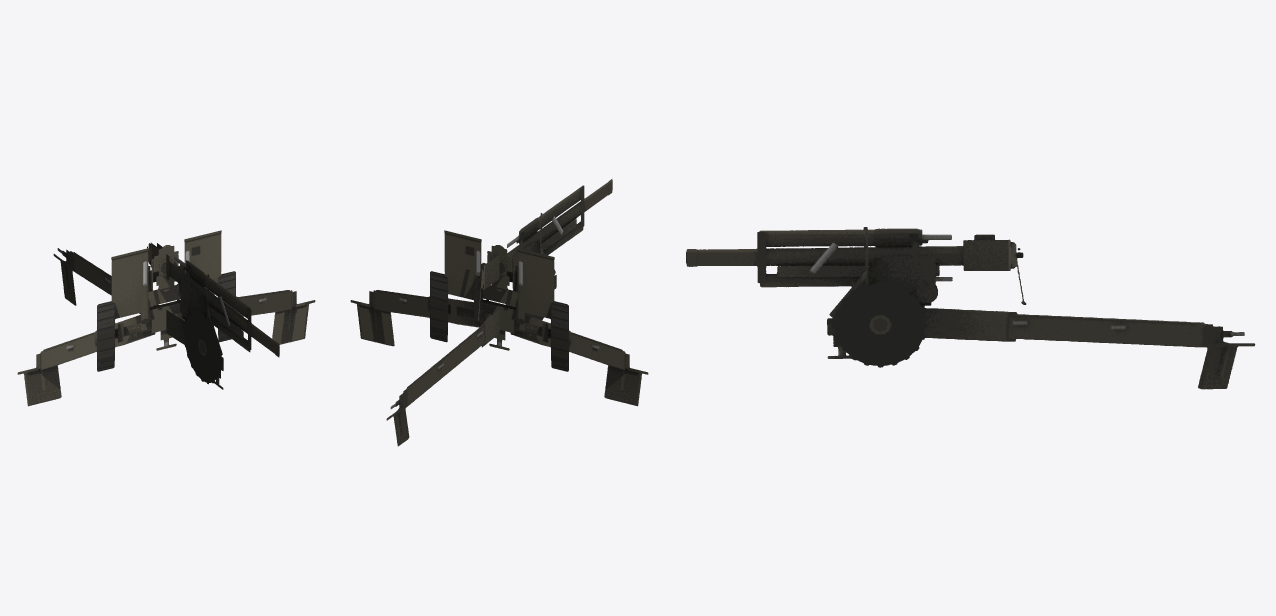
File: m1_155_pjas_web_mobil_bb.glb
The picture shows the model from 3 angles, left to right: view 1: azimuth 30°, elevation 25°; view 2: azimuth 150°, elevation 25°; view 3: azimuth 270°, elevation 25°; orthographic projection. The views are drawn at different scales.
Parts seen in each view (by area): view 1: m1_155_pjas_web_mobil_bb; view 2: m1_155_pjas_web_mobil_bb; view 3: m1_155_pjas_web_mobil_bb.
Boxes of the visible parts, box(x1,y1,x2,y2) form: m1_155_pjas_web_mobil_bb: box(17, 230, 315, 406); m1_155_pjas_web_mobil_bb: box(350, 179, 648, 446); m1_155_pjas_web_mobil_bb: box(686, 227, 1255, 389).
Size of the model in its own units: 5.18 by 6.81 by 6.81.
1 material, 1 textured.
